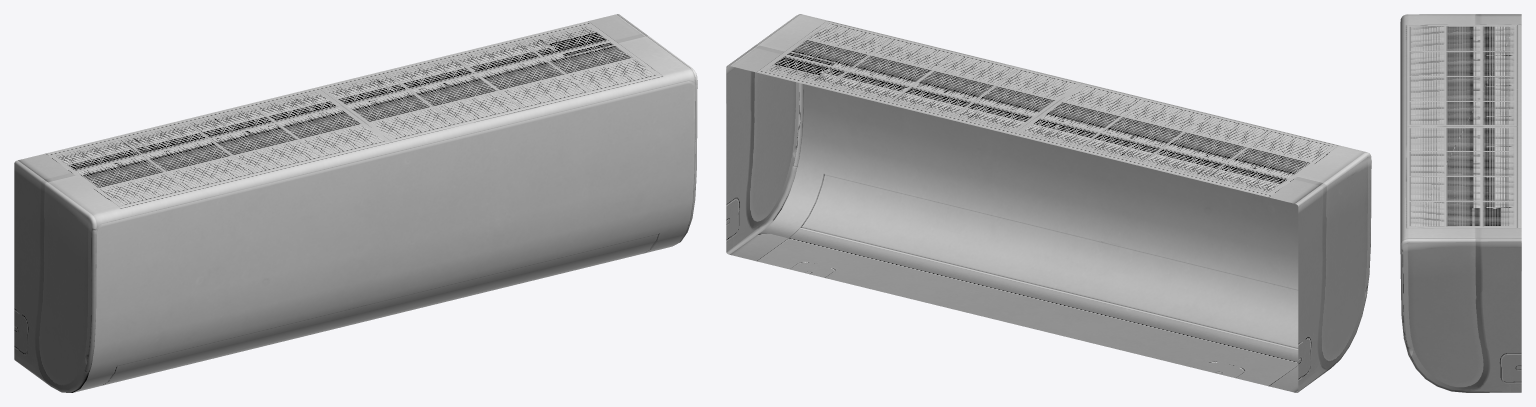
File: SM_检查室_空调_01.fbx
The picture shows the model from 3 angles, left to right: view 1: azimuth 30°, elevation 25°; view 2: azimuth 150°, elevation 25°; view 3: azimuth 270°, elevation 25°; orthographic projection. The views are drawn at different scales.
Visible parts, largest first — view 1: SM_检查室_空调_01; view 2: SM_检查室_空调_01; view 3: SM_检查室_空调_01.
Part boxes in pixels (bbox=[...]): SM_检查室_空调_01: bbox=[14, 14, 697, 392]; SM_检查室_空调_01: bbox=[726, 14, 1371, 392]; SM_检查室_空调_01: bbox=[1400, 14, 1521, 392].
Size of the model in its own units: 891 by 282 by 201.
